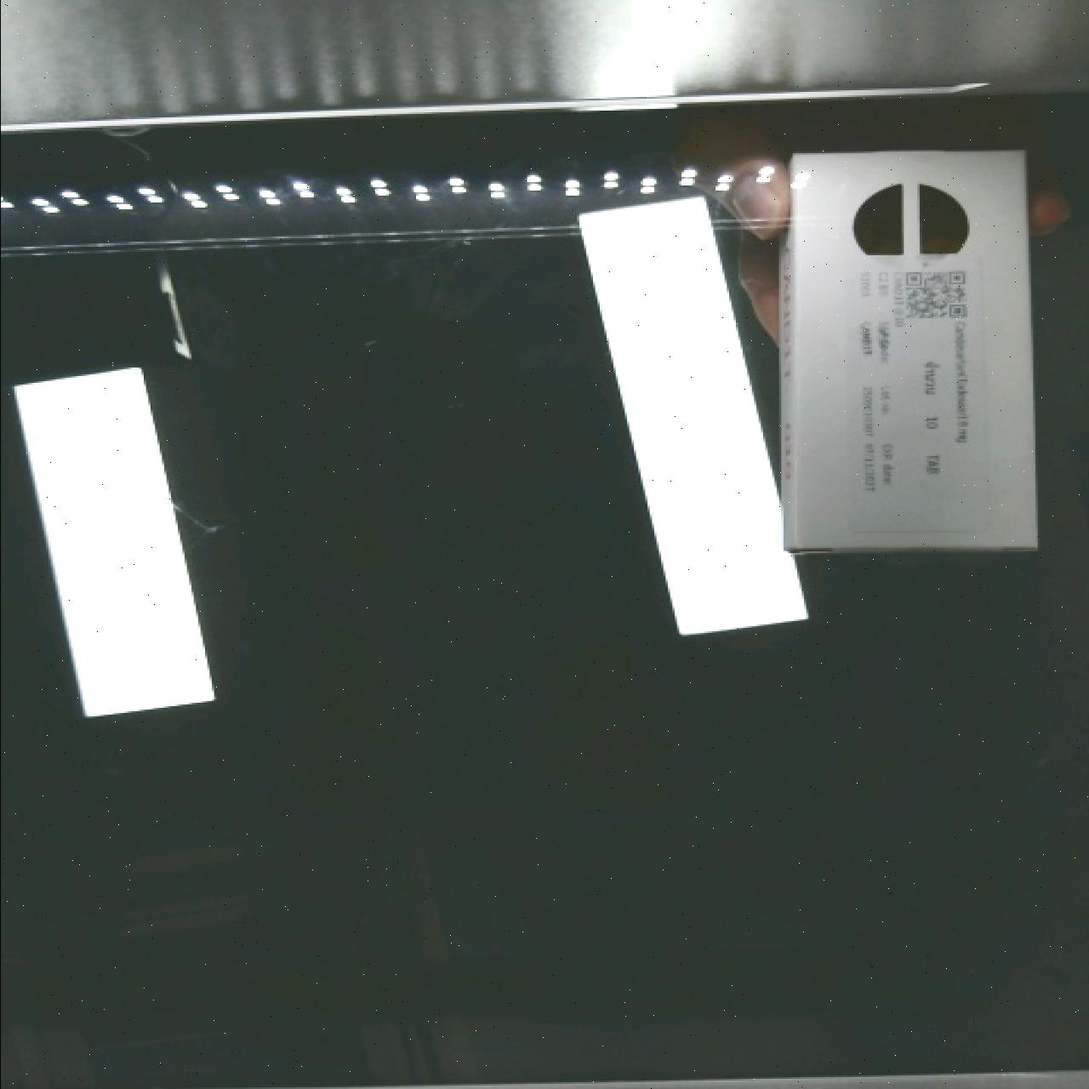qr_code: (885, 255, 990, 336)
